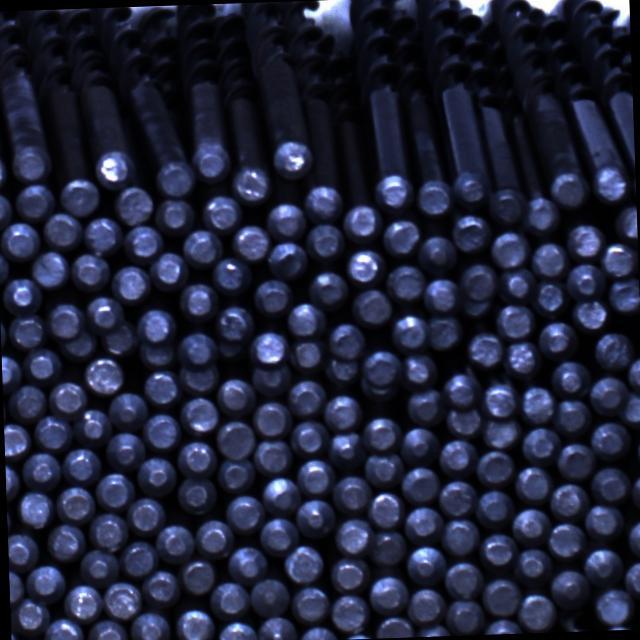tool: (359, 346, 401, 399), (458, 262, 500, 314), (82, 353, 124, 394), (233, 164, 274, 206), (104, 431, 145, 472), (108, 389, 149, 430), (194, 517, 234, 559), (282, 542, 324, 582), (550, 568, 590, 610), (72, 252, 112, 294), (58, 176, 100, 216), (590, 420, 632, 460), (369, 574, 409, 616), (136, 454, 176, 496), (592, 330, 634, 370), (260, 476, 302, 516), (588, 373, 628, 415), (249, 578, 290, 618), (516, 592, 557, 632), (22, 450, 62, 491), (13, 180, 54, 220), (83, 216, 124, 256), (228, 544, 269, 584), (96, 471, 136, 512), (71, 407, 111, 448), (512, 507, 552, 548), (267, 240, 308, 280), (182, 228, 223, 268), (351, 288, 392, 328), (202, 194, 243, 234), (406, 543, 446, 584), (400, 426, 440, 467), (416, 234, 457, 274), (176, 280, 216, 321), (374, 170, 414, 211), (306, 183, 346, 224), (154, 522, 194, 562), (26, 562, 66, 602), (101, 579, 141, 619), (43, 211, 83, 251), (56, 484, 96, 524), (6, 383, 46, 423), (47, 380, 87, 420), (110, 264, 150, 304), (80, 547, 120, 587), (260, 516, 300, 556), (226, 492, 266, 532), (126, 495, 166, 535), (214, 418, 254, 458), (330, 592, 370, 632), (44, 522, 84, 562), (444, 560, 484, 600), (89, 511, 129, 551), (124, 222, 164, 262), (1, 276, 41, 316), (296, 497, 336, 537), (539, 320, 579, 360), (476, 448, 516, 488), (386, 262, 426, 302), (521, 426, 561, 466), (362, 414, 402, 454), (476, 488, 516, 528), (180, 394, 220, 434), (215, 376, 255, 416), (548, 520, 588, 560), (583, 546, 623, 586), (450, 212, 490, 252), (565, 220, 605, 260), (310, 269, 350, 309), (273, 138, 313, 178), (550, 358, 590, 398), (264, 200, 304, 240), (520, 194, 560, 234), (175, 475, 216, 514), (590, 466, 632, 504), (210, 256, 252, 294), (212, 304, 254, 342), (0, 219, 39, 259), (62, 582, 101, 622), (62, 447, 102, 486), (32, 413, 72, 452), (209, 581, 249, 620), (29, 248, 69, 287), (231, 223, 271, 262), (290, 584, 330, 623), (140, 568, 179, 608), (555, 440, 594, 480), (178, 439, 218, 478), (116, 186, 156, 225), (286, 378, 325, 418), (46, 300, 85, 340), (382, 218, 421, 258), (333, 473, 372, 513), (400, 352, 440, 391), (403, 505, 442, 545), (406, 387, 446, 426), (486, 185, 526, 224), (584, 502, 625, 540), (150, 249, 188, 290), (97, 320, 138, 358), (444, 597, 486, 634), (407, 587, 446, 626), (549, 481, 588, 520), (16, 488, 55, 527), (143, 412, 182, 451), (345, 247, 384, 286), (453, 171, 492, 210), (10, 597, 50, 635), (482, 576, 522, 614), (440, 438, 478, 478), (400, 465, 440, 503), (423, 275, 461, 315), (489, 228, 529, 266), (440, 516, 480, 554), (20, 348, 60, 386), (414, 178, 452, 218), (285, 300, 325, 338), (306, 222, 344, 262), (594, 586, 634, 624), (94, 149, 132, 189), (550, 170, 590, 208), (156, 158, 196, 196), (442, 370, 482, 408), (362, 450, 402, 488), (119, 540, 158, 578), (514, 465, 552, 504), (6, 313, 45, 351), (336, 517, 374, 556), (328, 320, 367, 358), (390, 313, 428, 352), (479, 530, 518, 568), (298, 457, 336, 496), (552, 397, 590, 436), (494, 302, 534, 339), (136, 306, 176, 343), (176, 332, 216, 369), (366, 529, 406, 566), (440, 478, 478, 516), (529, 241, 567, 279), (178, 558, 216, 596), (254, 278, 292, 316), (142, 368, 180, 406), (504, 339, 542, 377), (289, 420, 327, 458), (514, 546, 552, 584), (86, 294, 124, 332), (518, 383, 555, 422), (254, 436, 294, 472), (481, 413, 522, 448), (254, 399, 292, 436), (324, 392, 362, 429), (466, 331, 504, 368), (367, 490, 404, 528), (156, 198, 194, 235), (481, 382, 518, 420), (217, 458, 256, 494), (426, 314, 463, 351), (600, 242, 638, 278), (566, 262, 604, 298), (330, 556, 368, 592), (572, 296, 610, 332), (252, 330, 290, 365), (174, 607, 214, 640), (8, 530, 40, 571), (608, 274, 640, 315), (290, 338, 326, 374), (444, 404, 482, 438), (129, 610, 171, 640), (257, 614, 298, 640), (3, 421, 30, 457), (45, 616, 85, 640), (86, 618, 127, 640), (616, 203, 638, 244), (374, 615, 413, 638), (216, 618, 255, 640), (1, 352, 22, 392), (618, 389, 640, 427), (482, 618, 522, 634), (300, 624, 339, 640), (624, 558, 640, 596), (5, 460, 20, 500), (8, 569, 24, 605), (219, 332, 241, 357), (626, 352, 640, 391), (627, 517, 640, 558), (416, 622, 453, 636), (0, 191, 12, 229), (631, 472, 640, 512), (0, 247, 9, 285), (339, 632, 376, 640), (0, 146, 5, 189), (636, 431, 640, 469)
